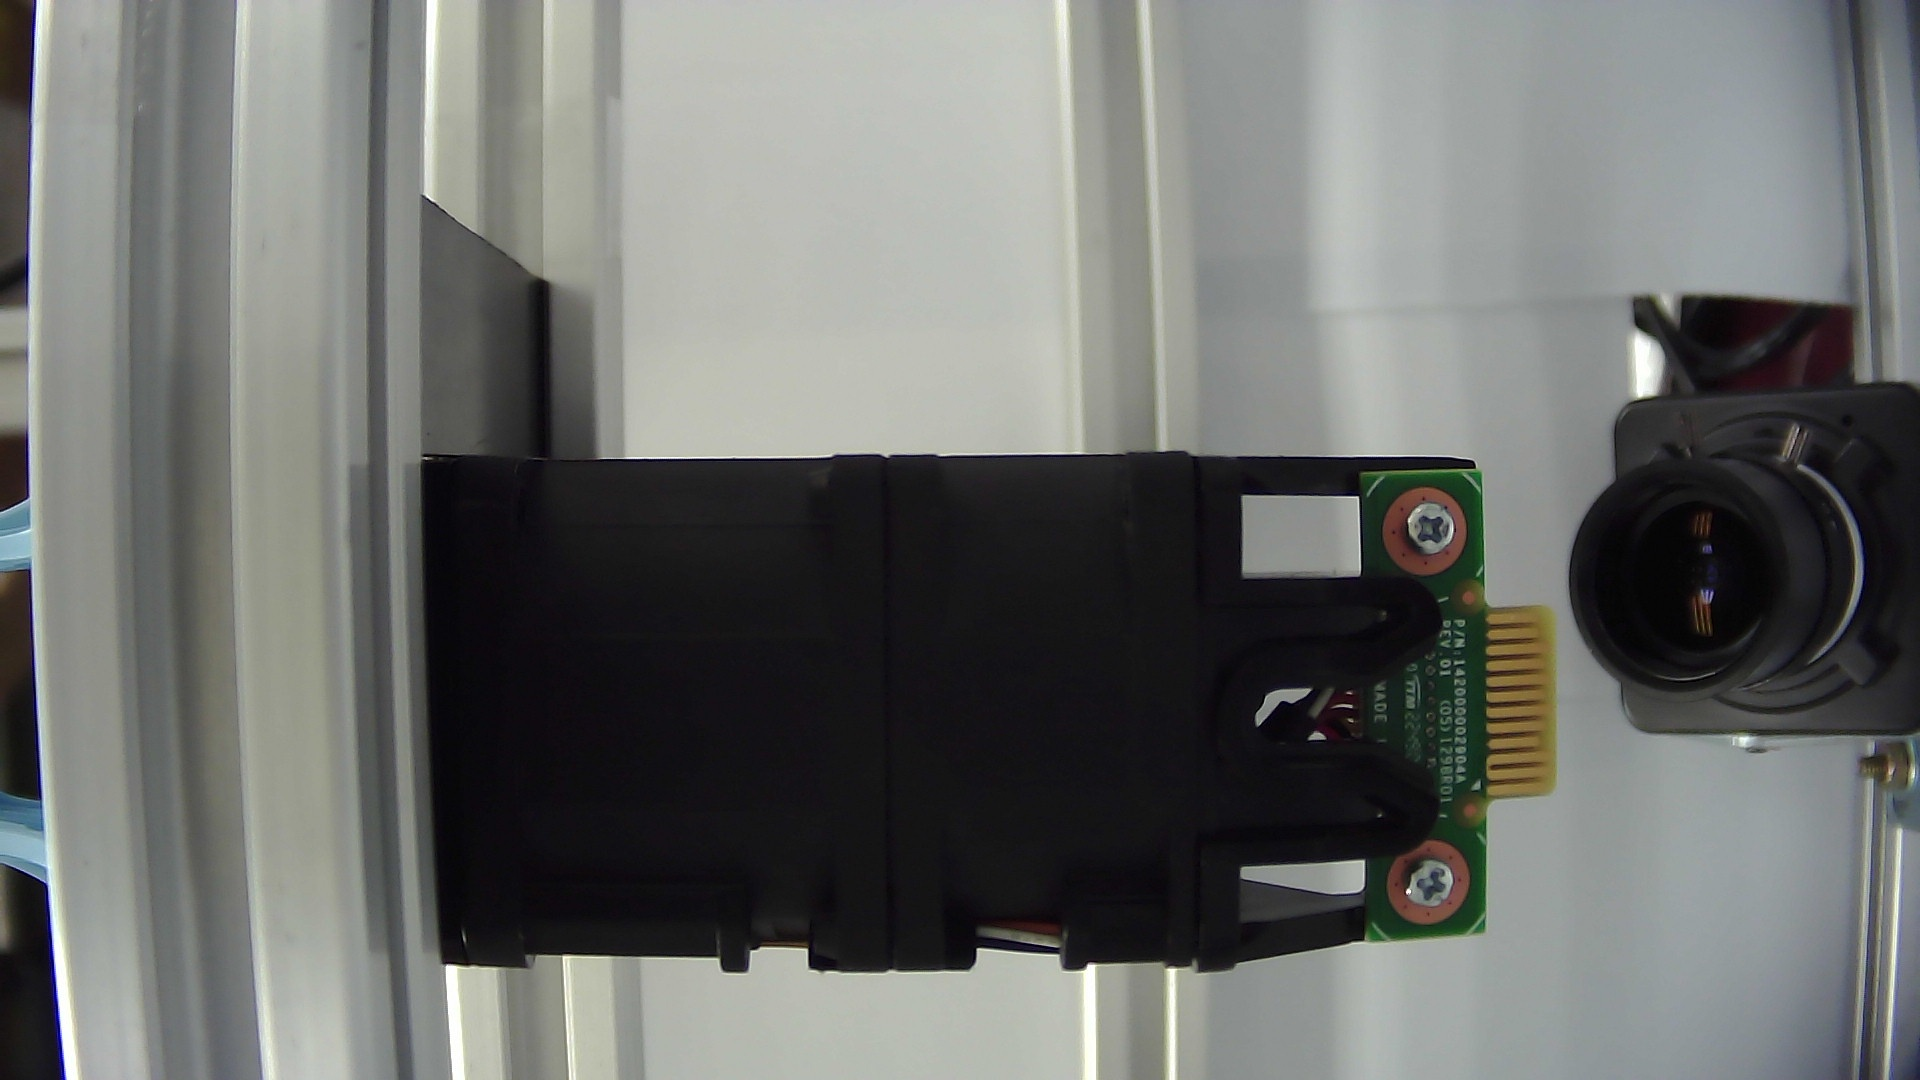5_1: (465, 400, 1295, 546)
